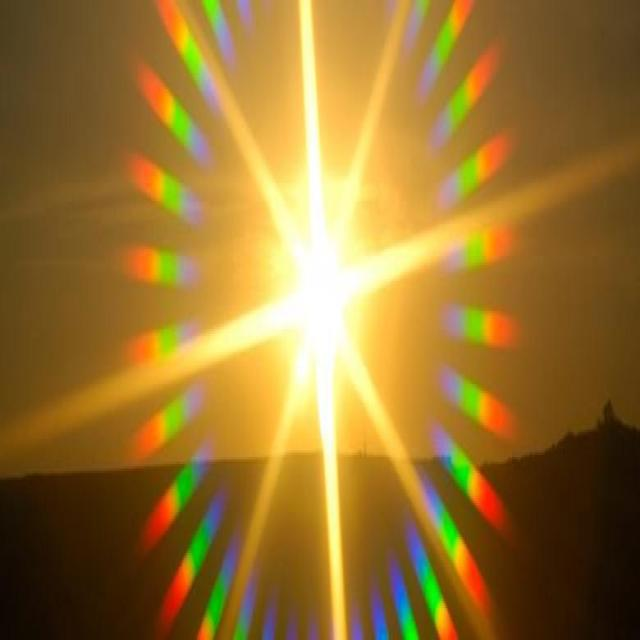other: (124, 2, 530, 636)
